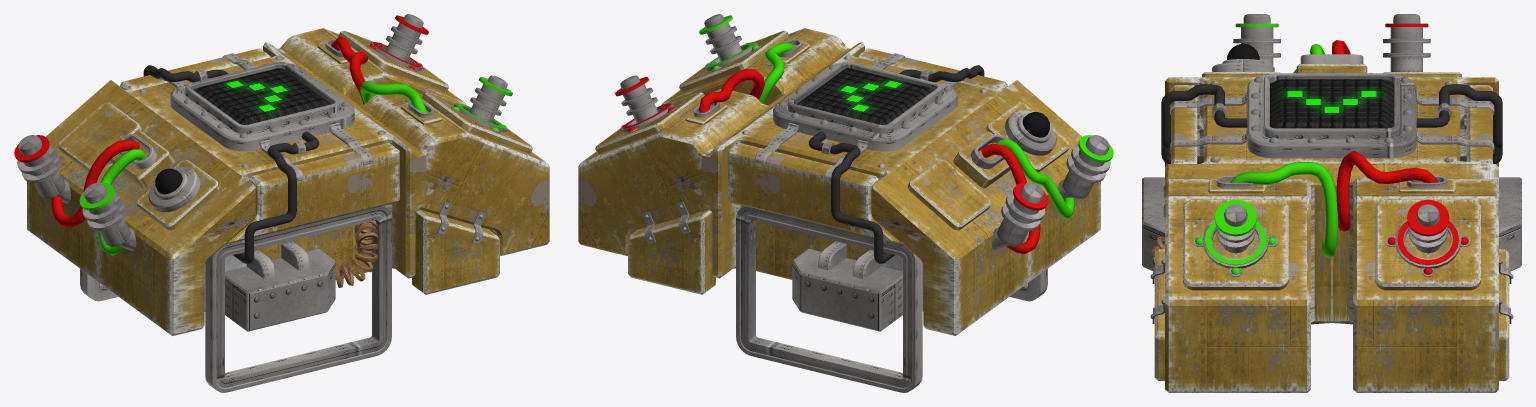
The model's file is static.fbx.
3 views of the same model, side by side, from view 1: azimuth 30°, elevation 25°; view 2: azimuth 150°, elevation 25°; view 3: azimuth 270°, elevation 25° (orthographic). The views are drawn at different scales.
Visible parts, largest first — view 1: Boole_1, Sweep_13, Boole, Cube_10, Cube_1, Plane_1, Cube_14, Sweep_7, Cube_12, Sweep_1_3, Sweep_11, Sweep_1 (+15 smaller); view 2: Boole_1, Sweep_13, Boole, Cube_10, Cube_1, Plane_1, Cube_14, Sweep_7, Cube_12, Sweep_1_3, Sweep_11, Sweep_1 (+14 smaller); view 3: Boole_1, Cube_12, Plane_1, Sweep_7, Cube_10, Sweep_11, Boole, Sweep_1_3, Cube_3, Cube_1, Sweep_1, Sweep (+17 smaller).
Boxes of the visible parts, <box> form: Boole_1: <box>27,28,549,335</box>; Sweep_13: <box>80,206,391,392</box>; Boole: <box>120,48,399,243</box>; Cube_10: <box>225,249,335,331</box>; Cube_1: <box>412,209,499,294</box>; Plane_1: <box>193,68,330,124</box>; Cube_14: <box>58,102,220,230</box>; Sweep_7: <box>170,63,354,151</box>; Cube_12: <box>338,30,532,153</box>; Sweep_1_3: <box>185,62,339,133</box>; Sweep_11: <box>143,65,319,263</box>; Sweep_1: <box>98,81,427,255</box>; Boole_1: <box>578,28,1100,335</box>; Sweep_13: <box>736,206,1047,392</box>; Boole: <box>728,48,1007,243</box>; Cube_10: <box>792,249,902,331</box>; Cube_1: <box>628,209,715,294</box>; Plane_1: <box>797,68,934,124</box>; Cube_14: <box>907,102,1069,230</box>; Sweep_7: <box>773,63,957,151</box>; Cube_12: <box>595,30,789,153</box>; Sweep_1_3: <box>788,62,942,133</box>; Sweep_11: <box>808,65,984,263</box>; Sweep_1: <box>759,42,1074,218</box>; Boole_1: <box>1165,77,1498,392</box>; Cube_12: <box>1183,199,1480,290</box>; Plane_1: <box>1270,79,1393,128</box>; Sweep_7: <box>1247,74,1416,158</box>; Cube_10: <box>1142,177,1521,270</box>; Sweep_11: <box>1161,84,1502,163</box>; Boole: <box>1171,85,1492,163</box>; Sweep_1_3: <box>1264,73,1399,138</box>; Cube_3: <box>1169,92,1494,153</box>; Cube_1: <box>1154,249,1509,380</box>; Sweep_1: <box>1230,44,1338,257</box>; Sweep: <box>1336,150,1438,231</box>.
Bounding box in the file's own units: 303 × 157 × 203.
8 materials, 8 textured.
